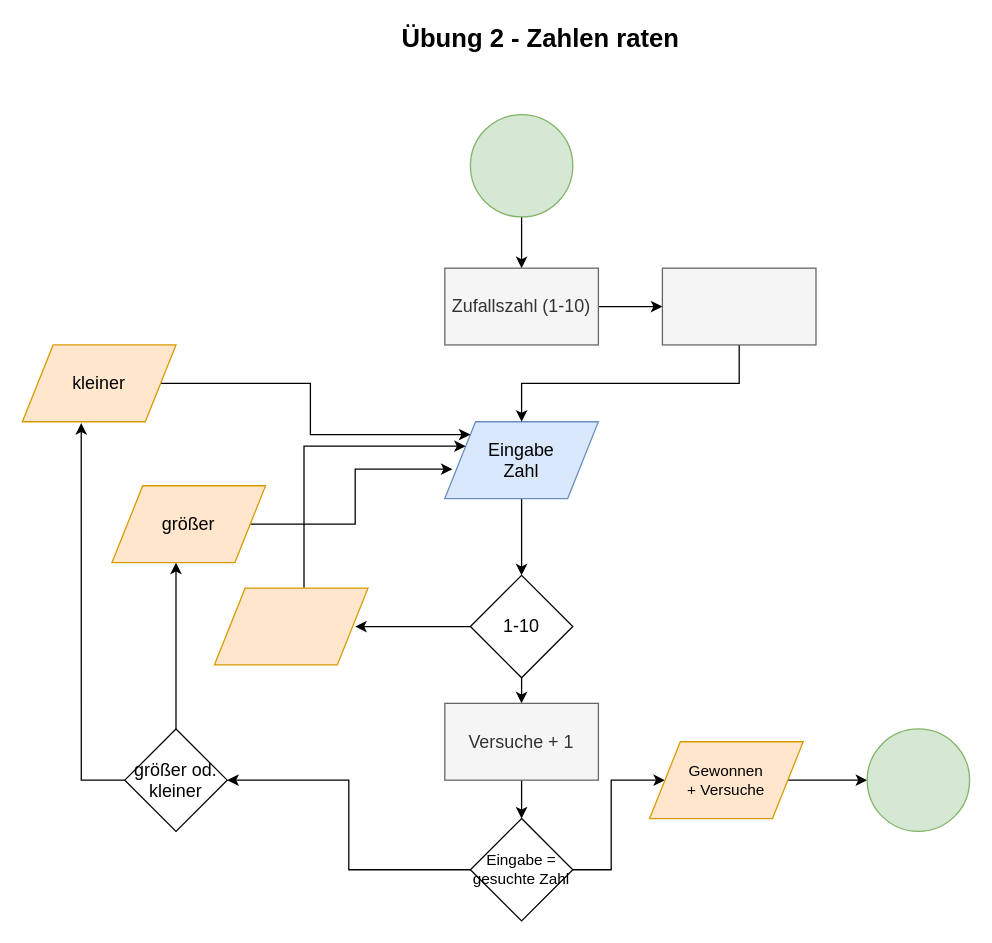
Some shapes in this 992 by 943 pixel diagram are drawn without their labels. Here are the shapes that lost their labels. From the top down, the centre of each, then its label:
point 521,165: Start
point 738,306: Anzahl d. Versuche = 0
point 290,626: Fehler
point 918,779: Ende
